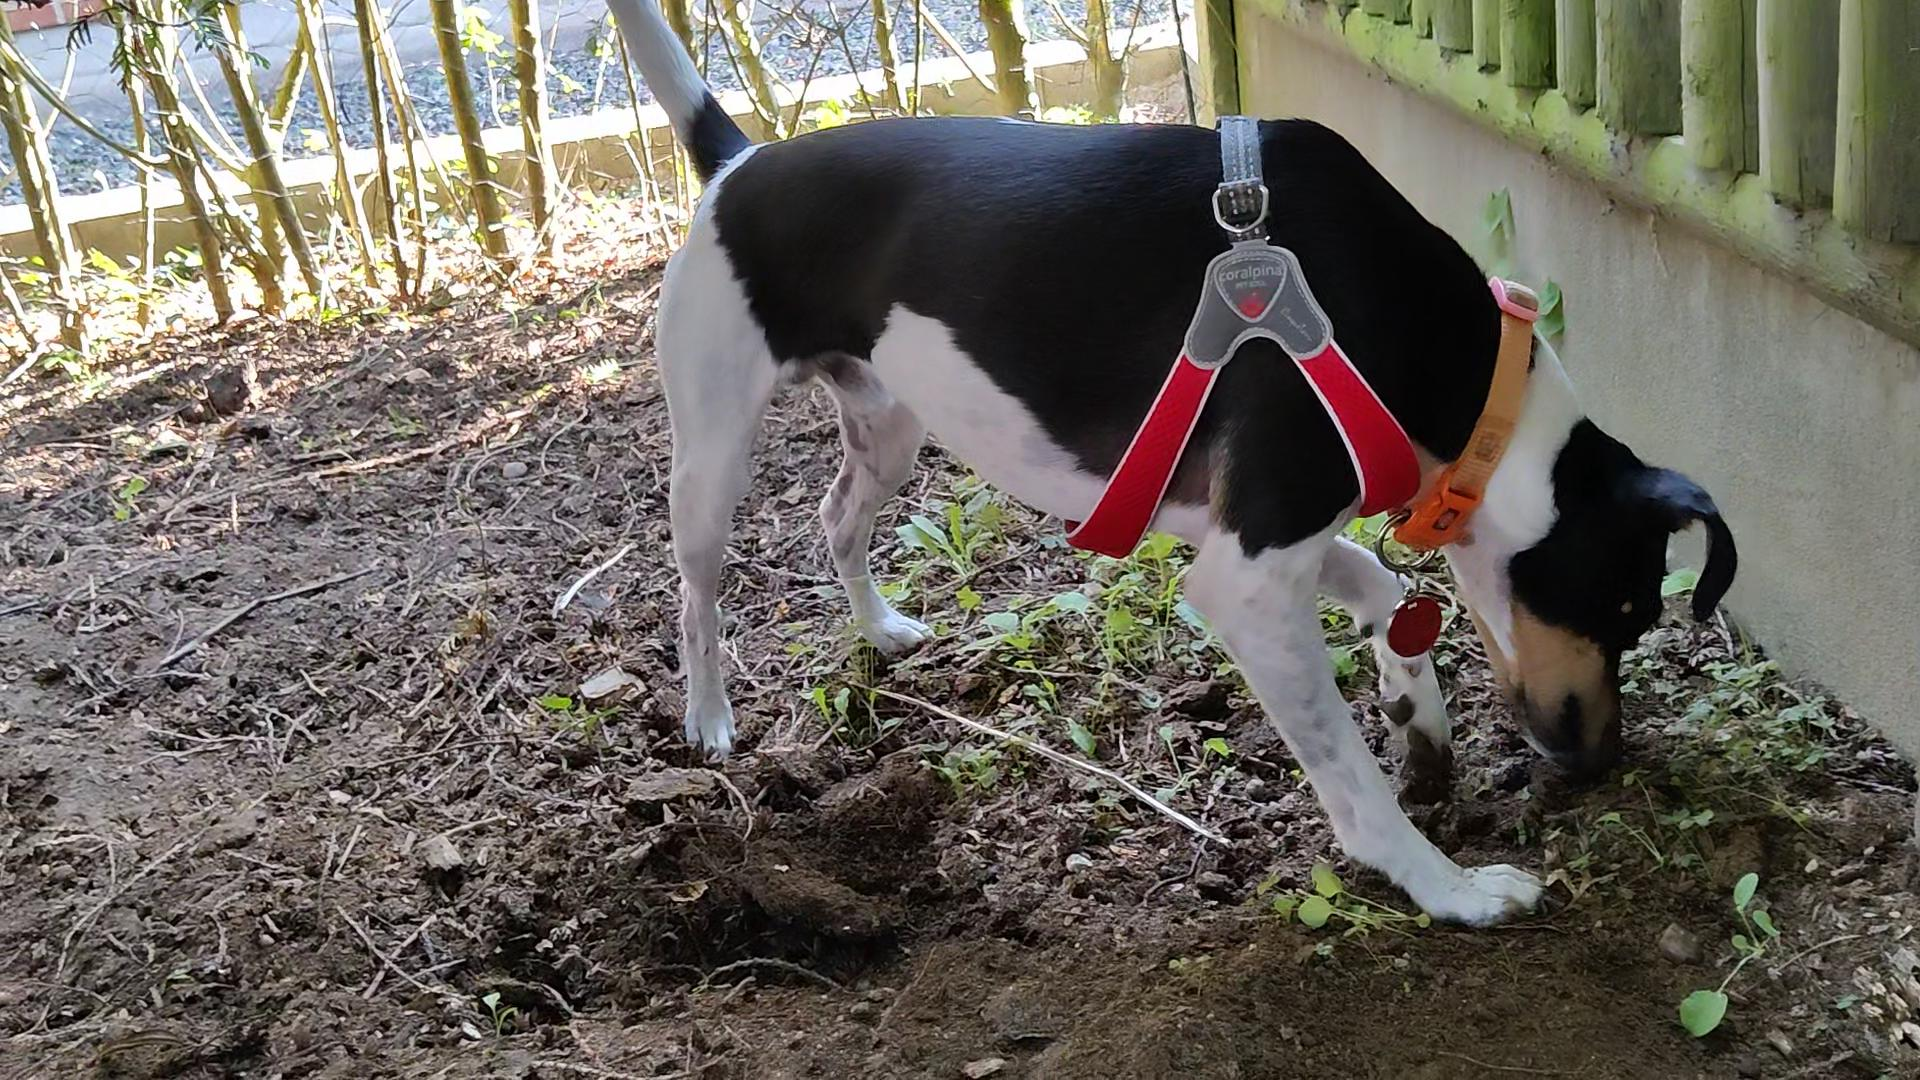Dog: (585, 0, 1756, 953)
